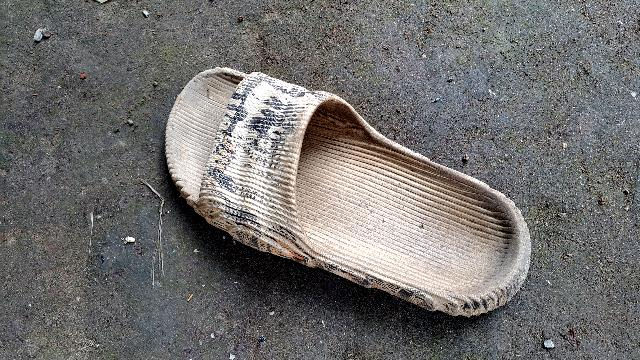sandal: (150, 47, 588, 359)
